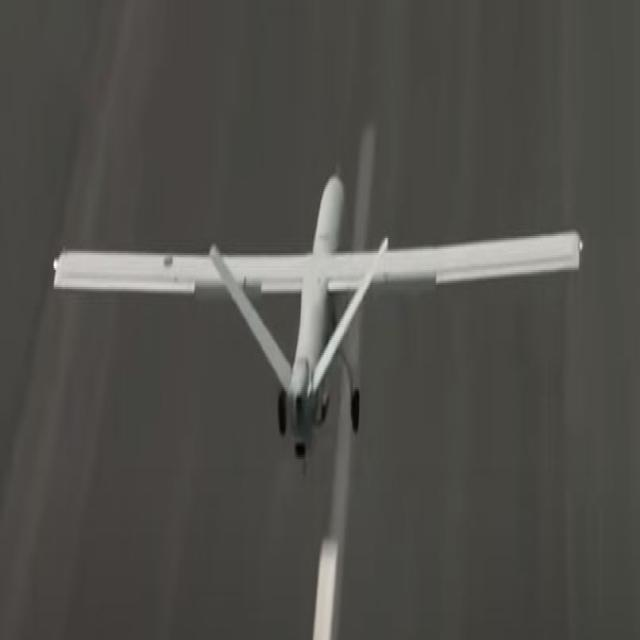iha: (52, 165, 587, 476)
